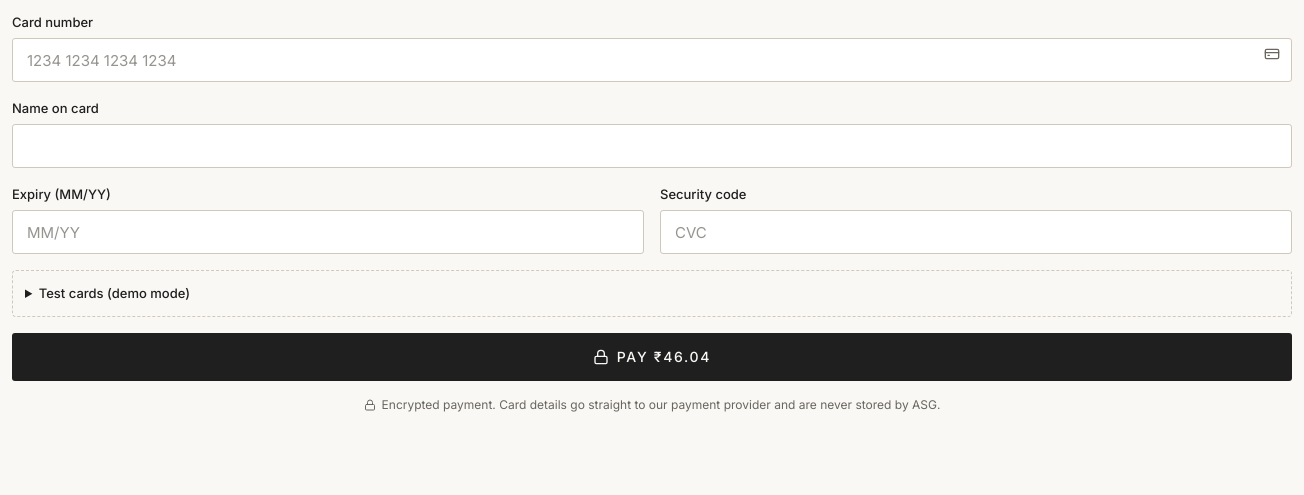
it: PaymentForm › formats card input and validates before paying
Type "4242424242424241" into the field labelled "Card number". click: (652, 60)
box: top-left (12, 38), bottom-right (1292, 82)
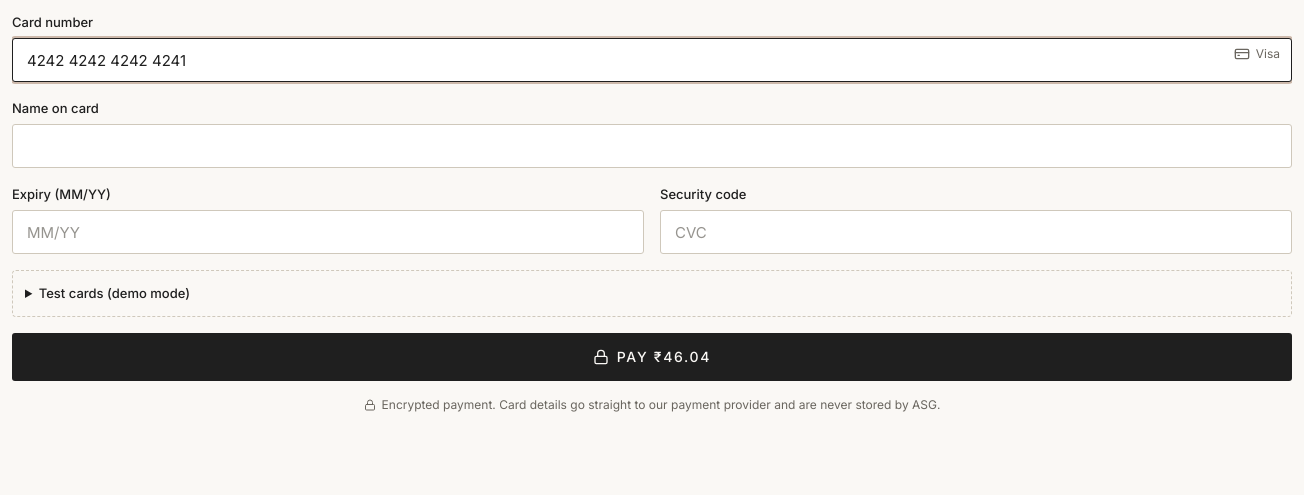
Result: the field labelled "Card number" holds "4242 4242 4242 4241" at top-left (12, 38), bottom-right (1292, 82)
Click the button with test id "pay-button". click: click(652, 357)
box: top-left (12, 333), bottom-right (1292, 381)
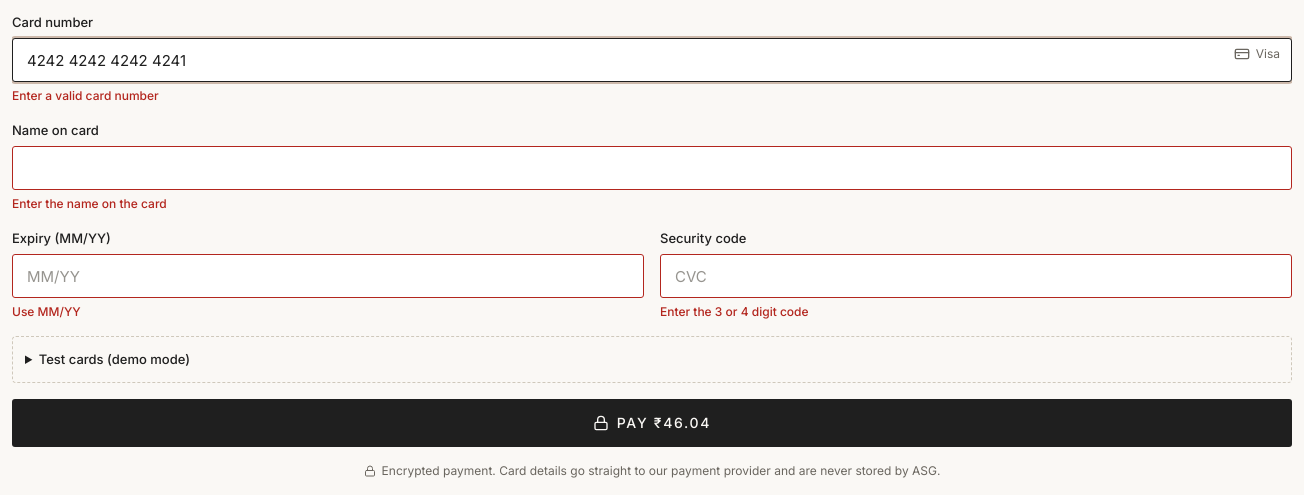
Result: the text "Enter a valid card number" is shown at top-left (12, 88), bottom-right (159, 103)
